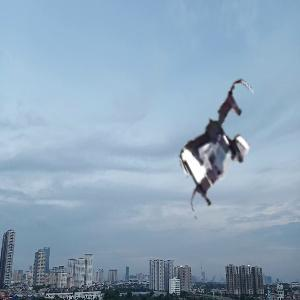drone: (162, 86, 281, 205)
